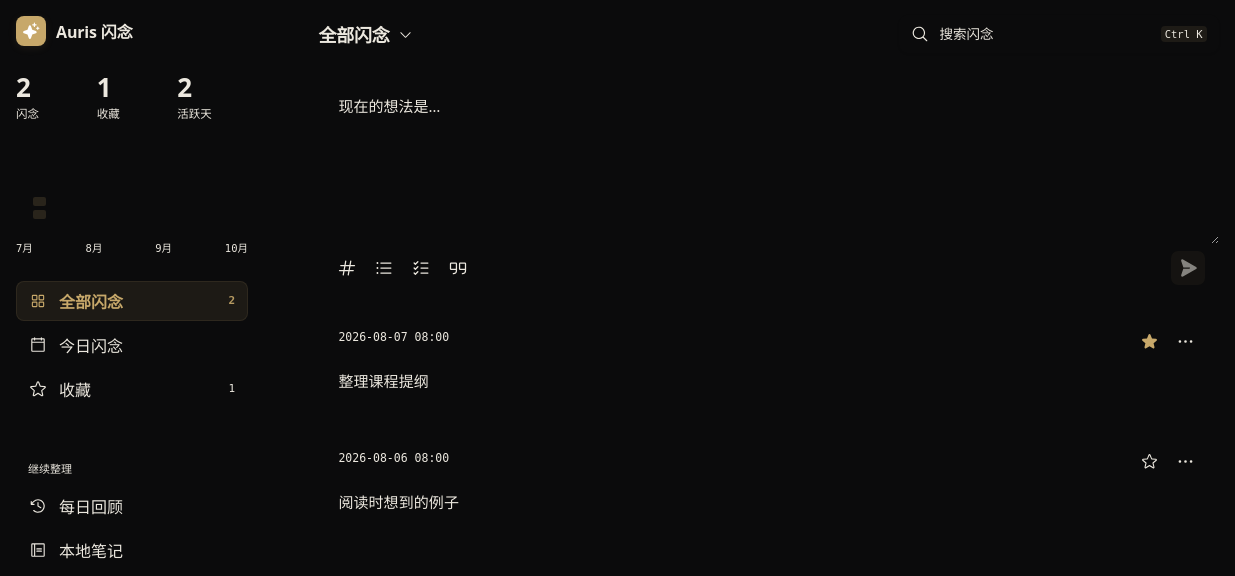
FlashPageClient › filters the timeline from the search field
Expected: the text "整理课程提纲" is shown, [338,371,429,391]
Type "课程" into the search field named "搜索闪念" at (1045, 34), box [938,24,1152,44]
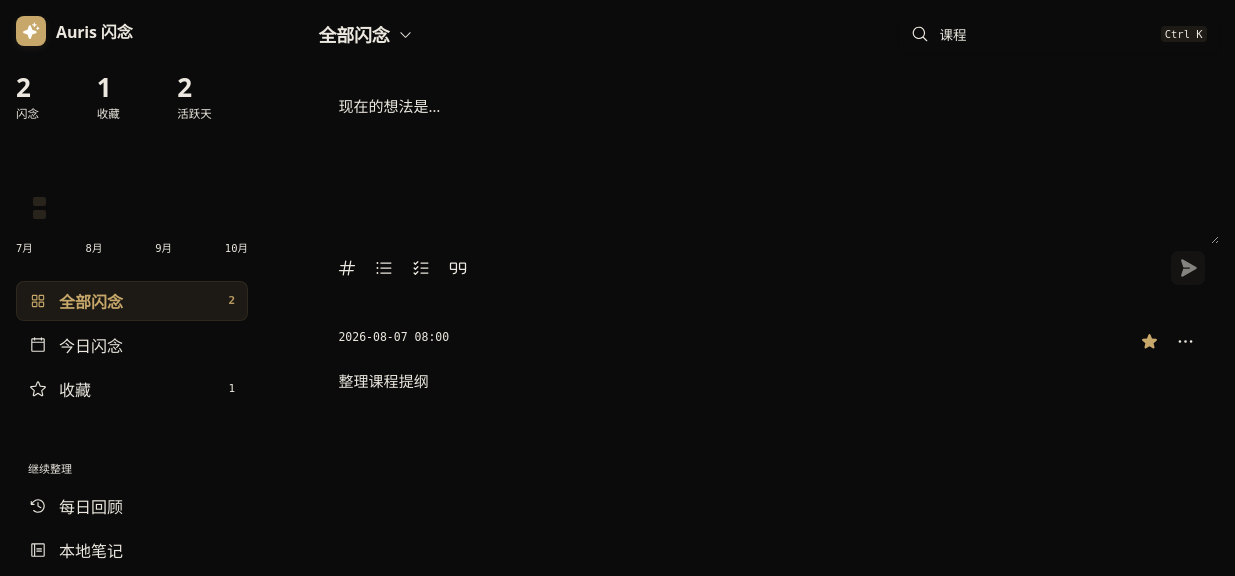
Expected: the text "整理课程提纲" is shown, [338,371,429,391]
Now the text "阅读时想到的例子" is gone
